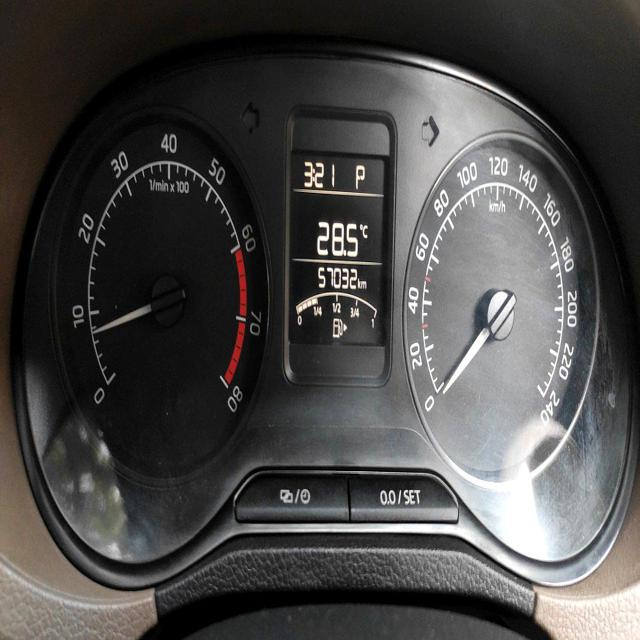odometer: (316, 264, 358, 293)
